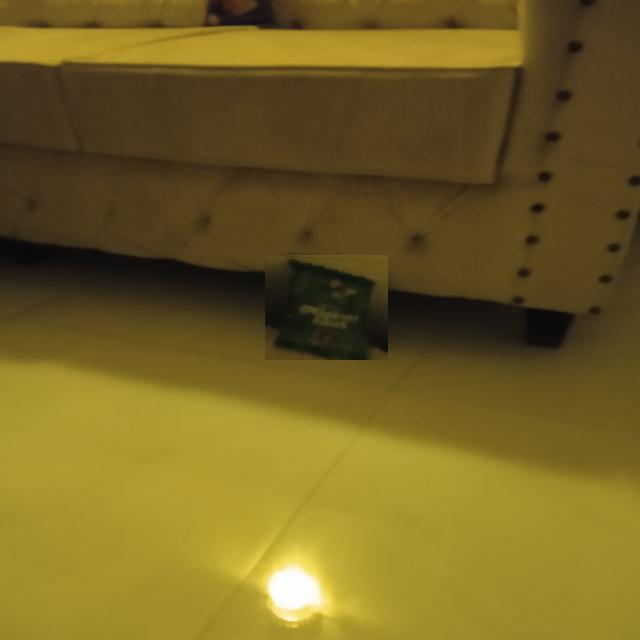Plastic: (264, 254, 388, 360)
